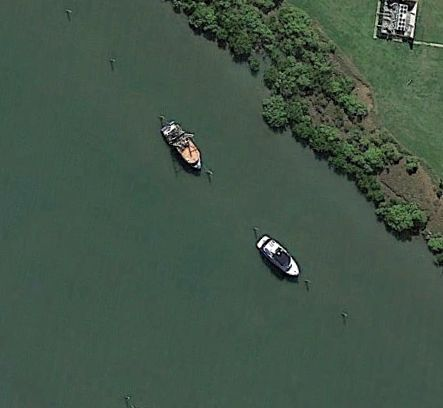boat: (161, 120, 203, 173), (255, 234, 301, 278)
